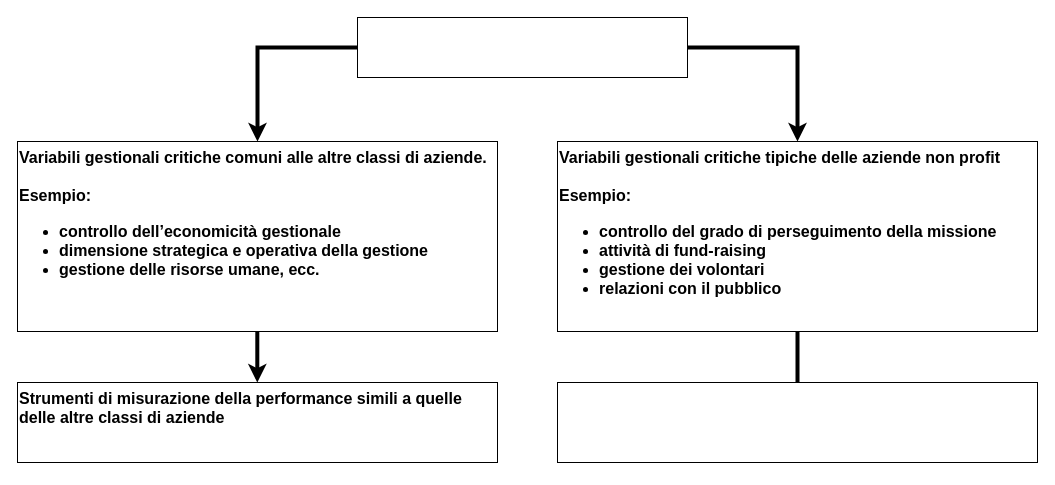
Image size: 1055x485. Some labels were removed from this diagram. The centre of each missing label's shape, as x and y in pixels:
"Strumenti di misurazione della performance specifici per le aziende non profit" belongs at (797,422).
"VARIABILI GESTIONALI CRITICHE DELLE AZIENDE NON PROFIT" belongs at (522,47).
